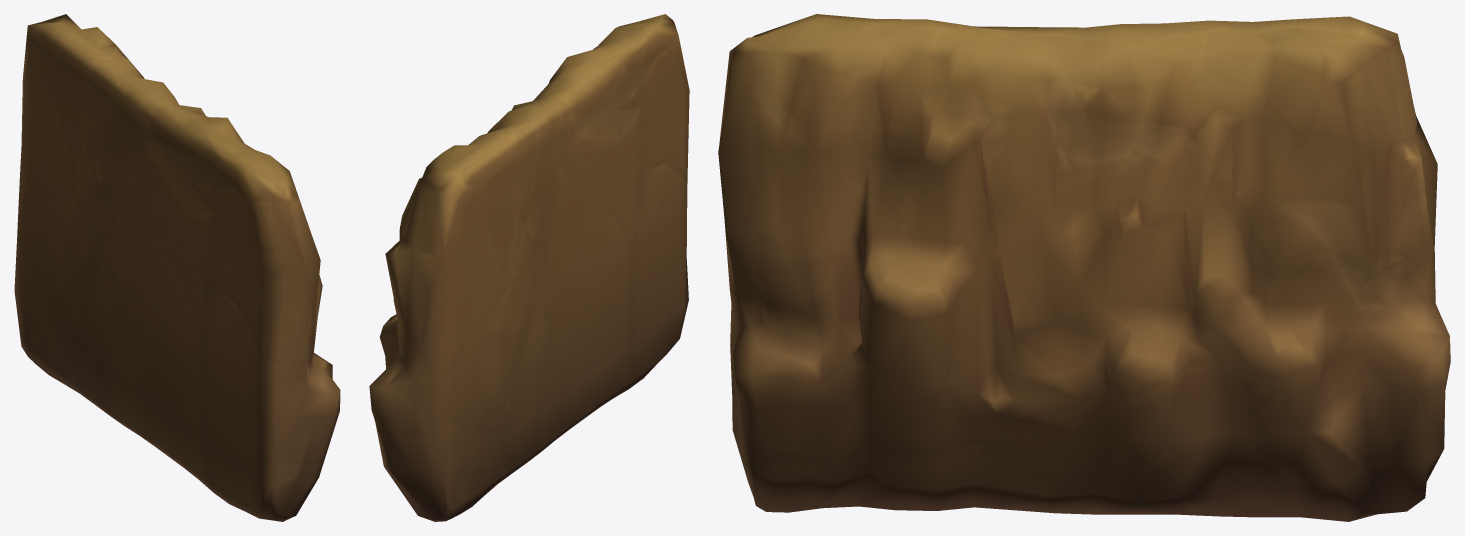
The model's file is Rock14.glb.
3 renders of one model, left to right at view 1: azimuth 30°, elevation 25°; view 2: azimuth 150°, elevation 25°; view 3: azimuth 270°, elevation 25°, orthographic. The views are drawn at different scales.
Visible parts, largest first — view 1: Rock14; view 2: Rock14; view 3: Rock14.
Boxes of the visible parts, x1,y1,x2,y2 form: Rock14: (14, 14, 340, 521); Rock14: (369, 14, 689, 521); Rock14: (718, 14, 1450, 521).
Bounding box in the file's own units: 7.56 × 21.05 × 28.81.
Materials: 1 (1 with a texture image).
